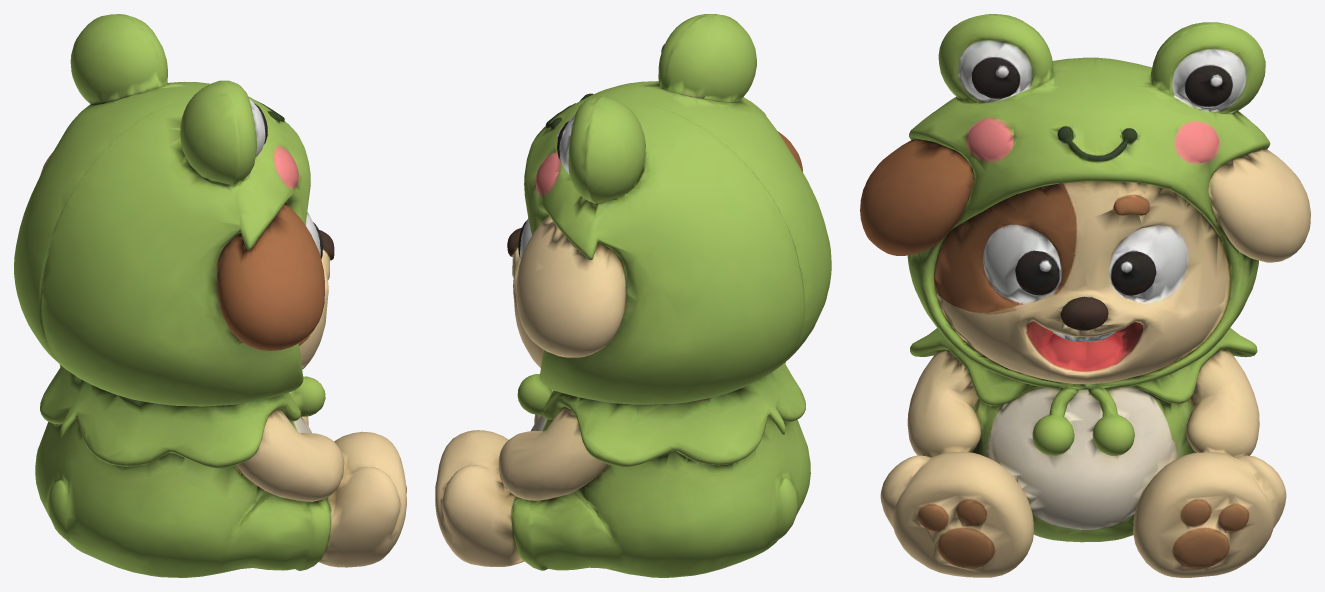
Rendered from frogdali-plush.glb.
3 renders of one model, left to right at view 1: azimuth 30°, elevation 25°; view 2: azimuth 150°, elevation 25°; view 3: azimuth 270°, elevation 25°, orthographic. The views are drawn at different scales.
Parts seen in each view (by area): view 1: tripo_node_1156c113-59c0-490a-9d9c-f776d445b02e; view 2: tripo_node_1156c113-59c0-490a-9d9c-f776d445b02e; view 3: tripo_node_1156c113-59c0-490a-9d9c-f776d445b02e.
Part boxes in pixels (left/top/right/bottom): tripo_node_1156c113-59c0-490a-9d9c-f776d445b02e: left=14, top=14, right=406, bottom=577; tripo_node_1156c113-59c0-490a-9d9c-f776d445b02e: left=435, top=14, right=831, bottom=577; tripo_node_1156c113-59c0-490a-9d9c-f776d445b02e: left=860, top=14, right=1310, bottom=577.
Bounding box in the file's own units: 0.6506 × 0.9993 × 0.8208.
Materials: 1 (1 with a texture image).
